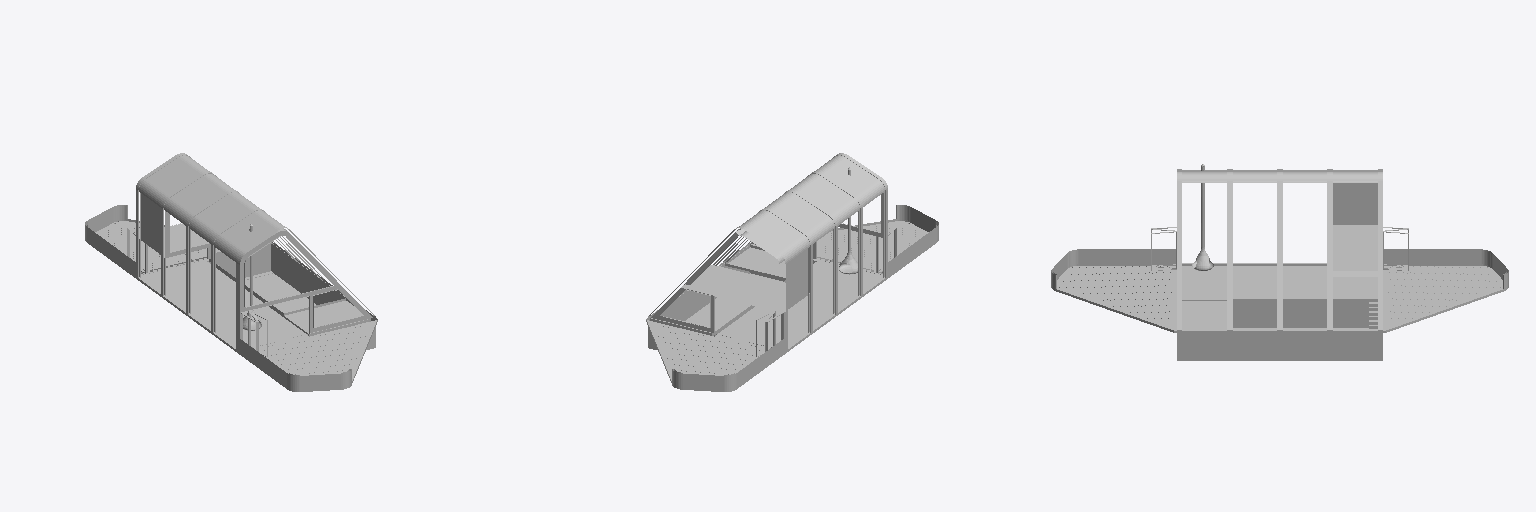
The model's file is studioFrameOBJ2.obj.
3 views of the same model, side by side, from view 1: azimuth 30°, elevation 25°; view 2: azimuth 150°, elevation 25°; view 3: azimuth 270°, elevation 25° (orthographic).
Visible parts, largest first — view 1: studio_studio_Iron_-_Cast; view 2: studio_studio_Iron_-_Cast; view 3: studio_studio_Iron_-_Cast.
Boxes of the visible parts, box(x1,y1,x2,y2) form: studio_studio_Iron_-_Cast: box(85, 153, 377, 391); studio_studio_Iron_-_Cast: box(646, 153, 938, 391); studio_studio_Iron_-_Cast: box(1051, 164, 1508, 360).
Size of the model in its own units: 9.45 by 9.34 by 27.16.